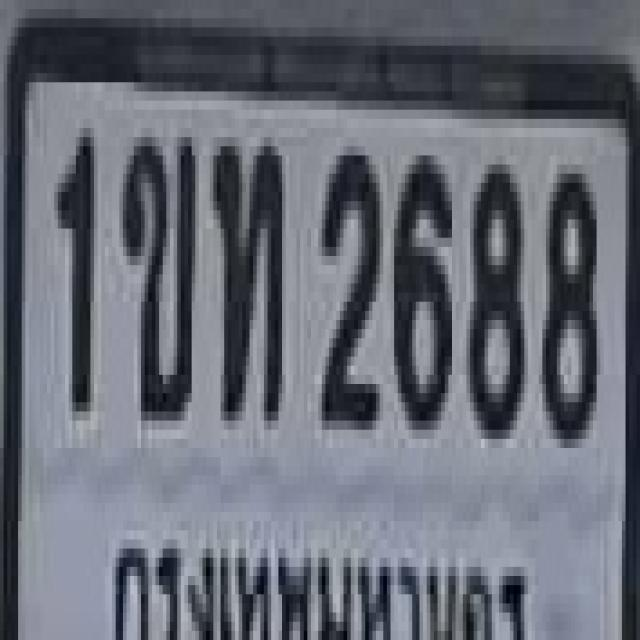1: (54, 123, 90, 407)
2: (318, 142, 376, 416)
6: (391, 146, 448, 421)
8: (466, 155, 520, 430), (539, 164, 593, 439)
A02: (119, 128, 192, 411)
A23: (208, 137, 280, 412)
BKK: (109, 517, 533, 640)
